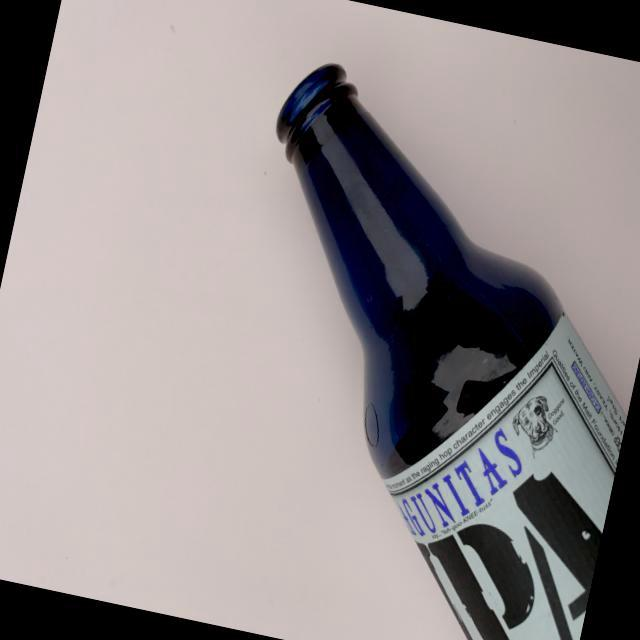glass: (167, 41, 640, 640)
